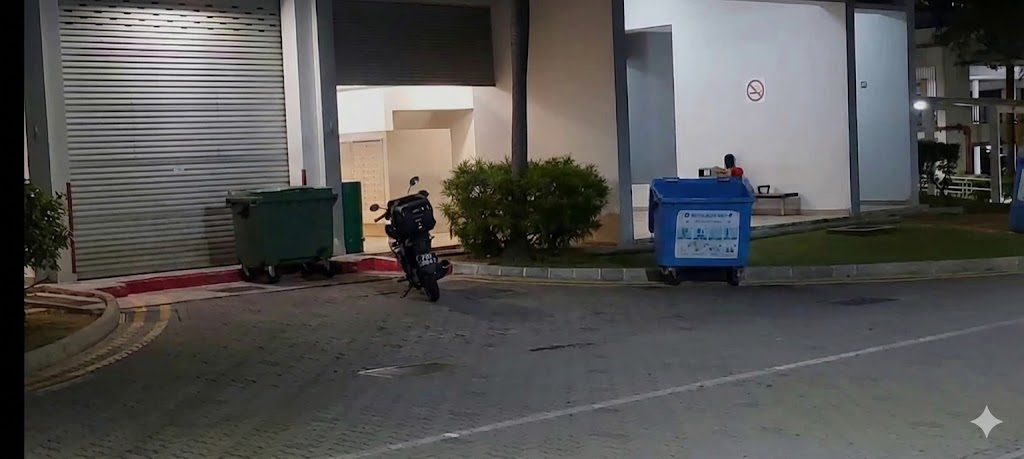bin_empty: (648, 169, 754, 284), (226, 186, 337, 282)
vehicle: (374, 190, 450, 301)
